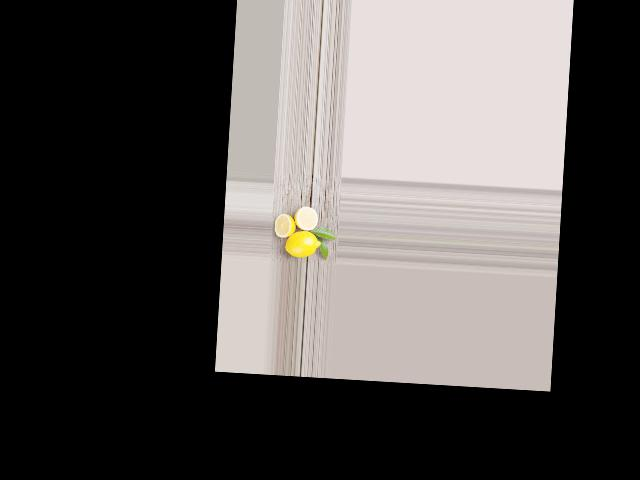lemon: (284, 228, 324, 256)
